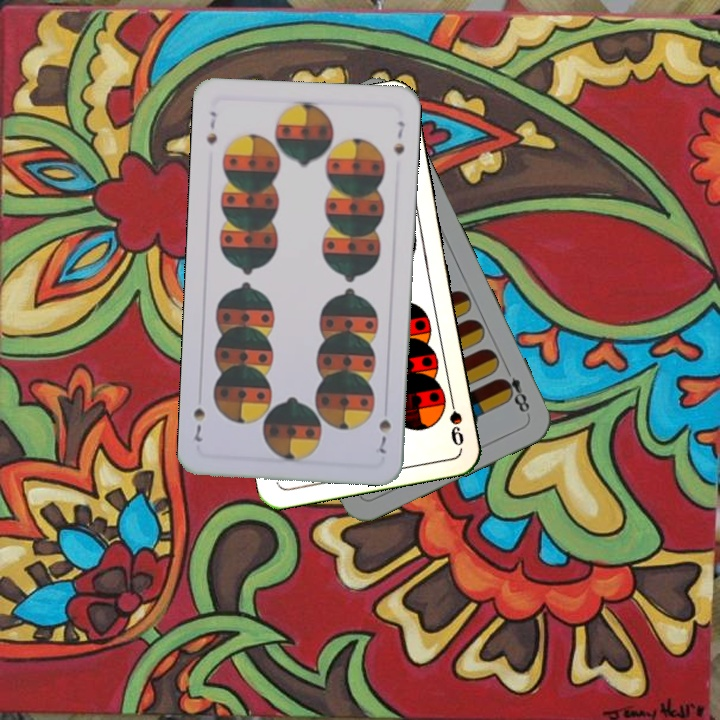E8: (496, 362, 533, 415)
S7: (371, 415, 394, 458), (203, 107, 220, 146)
S9: (445, 390, 467, 449)
